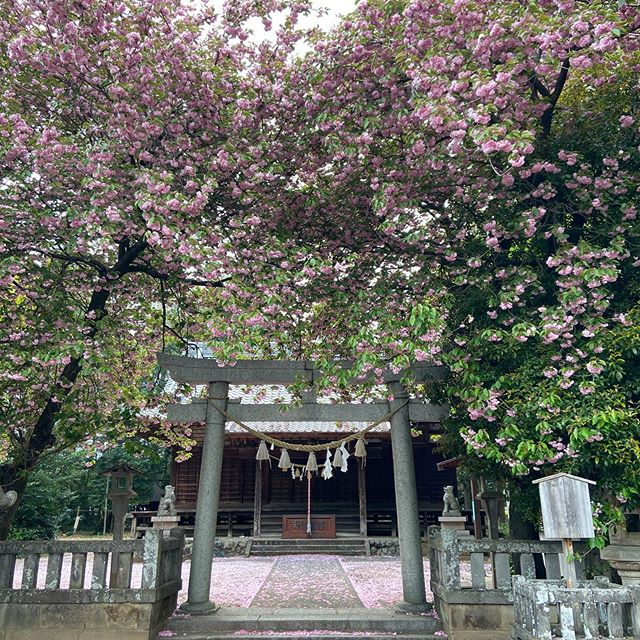building: (172, 399, 466, 561)
flowers: (1, 1, 625, 392)
